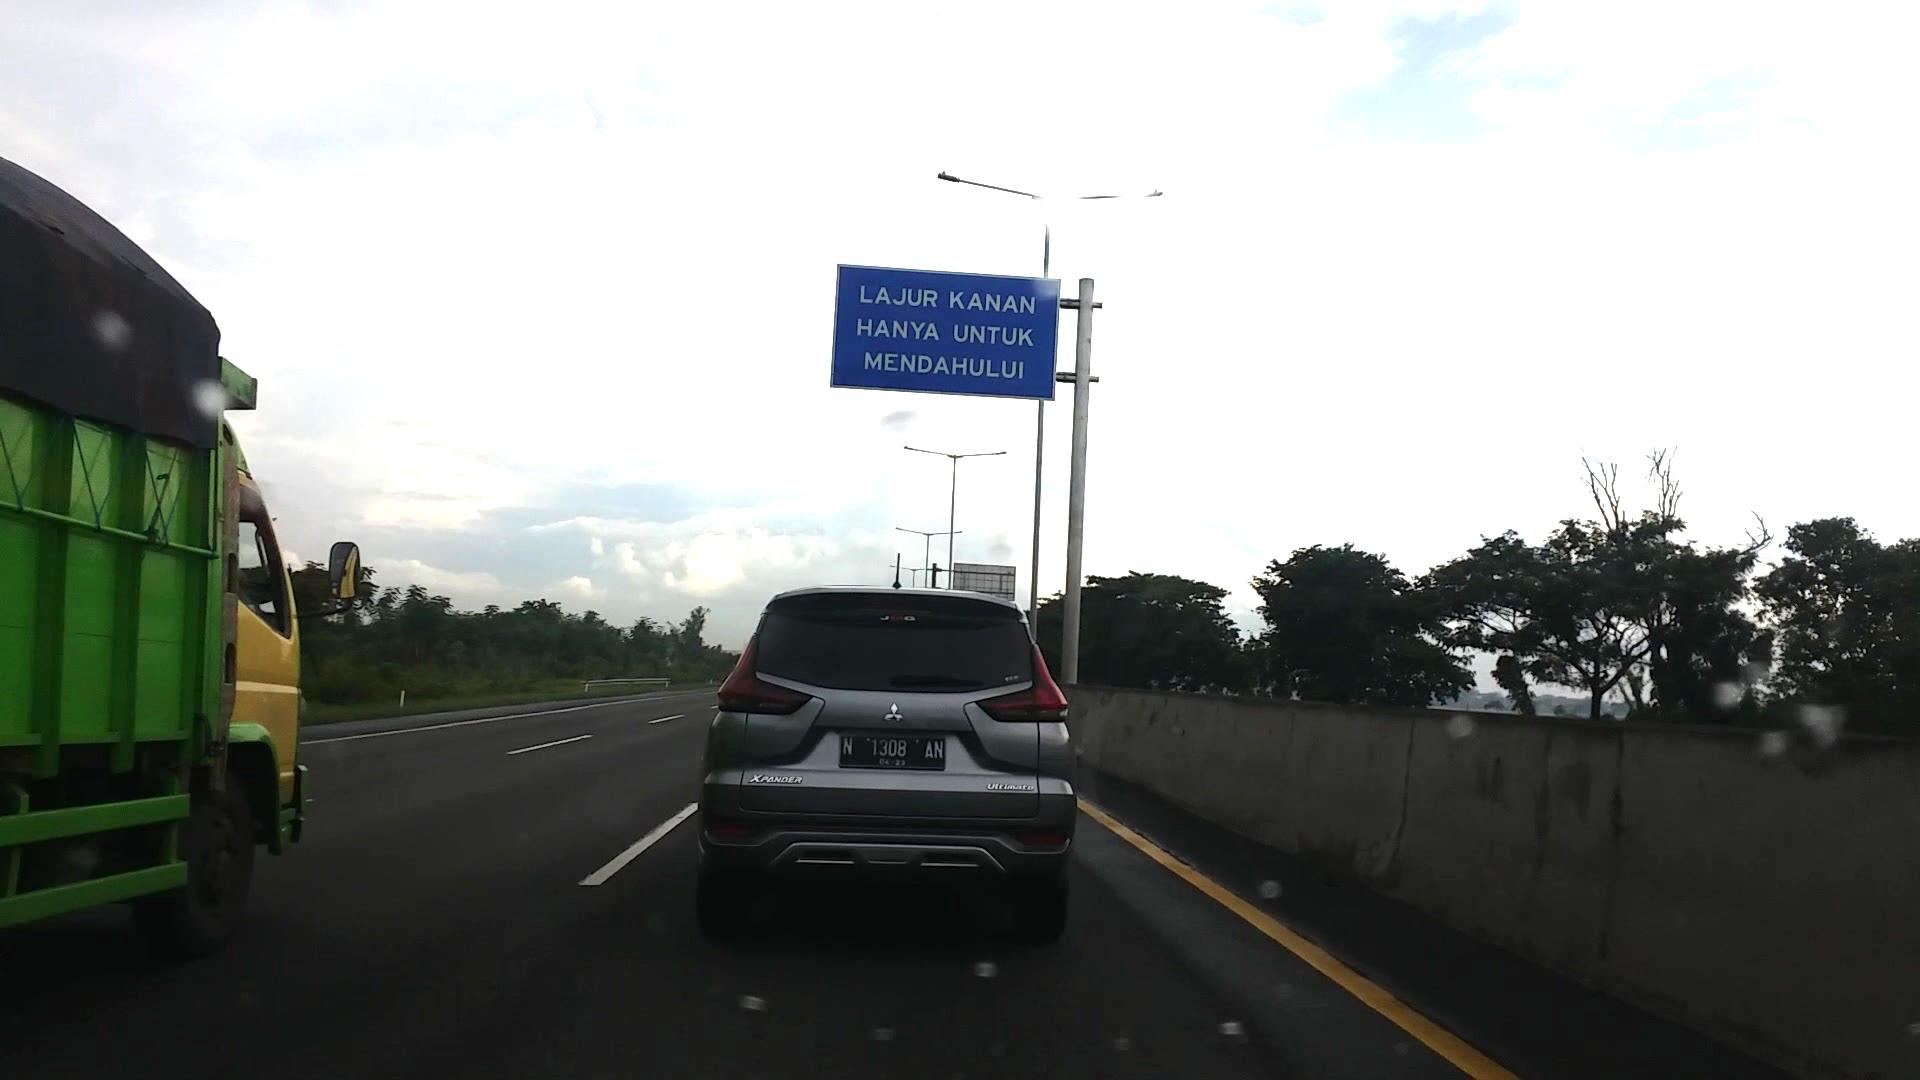plate_positive: (839, 735, 945, 771)
